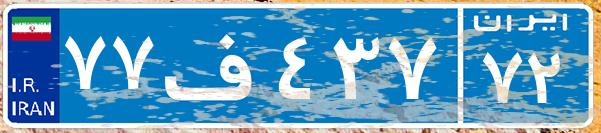2: (525, 38, 570, 115)
3: (330, 28, 385, 110)
4: (273, 28, 330, 110)
7: (385, 28, 445, 110), (57, 26, 110, 107), (475, 38, 525, 113), (110, 28, 158, 105)
ف: (158, 15, 273, 115)
